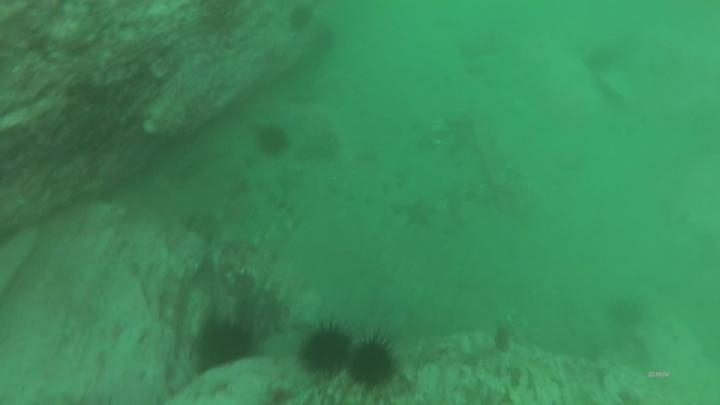echinus: (296, 320, 360, 385), (341, 328, 401, 397), (192, 319, 261, 375), (253, 120, 292, 160), (287, 5, 318, 35)
starfish: (403, 195, 436, 231)
